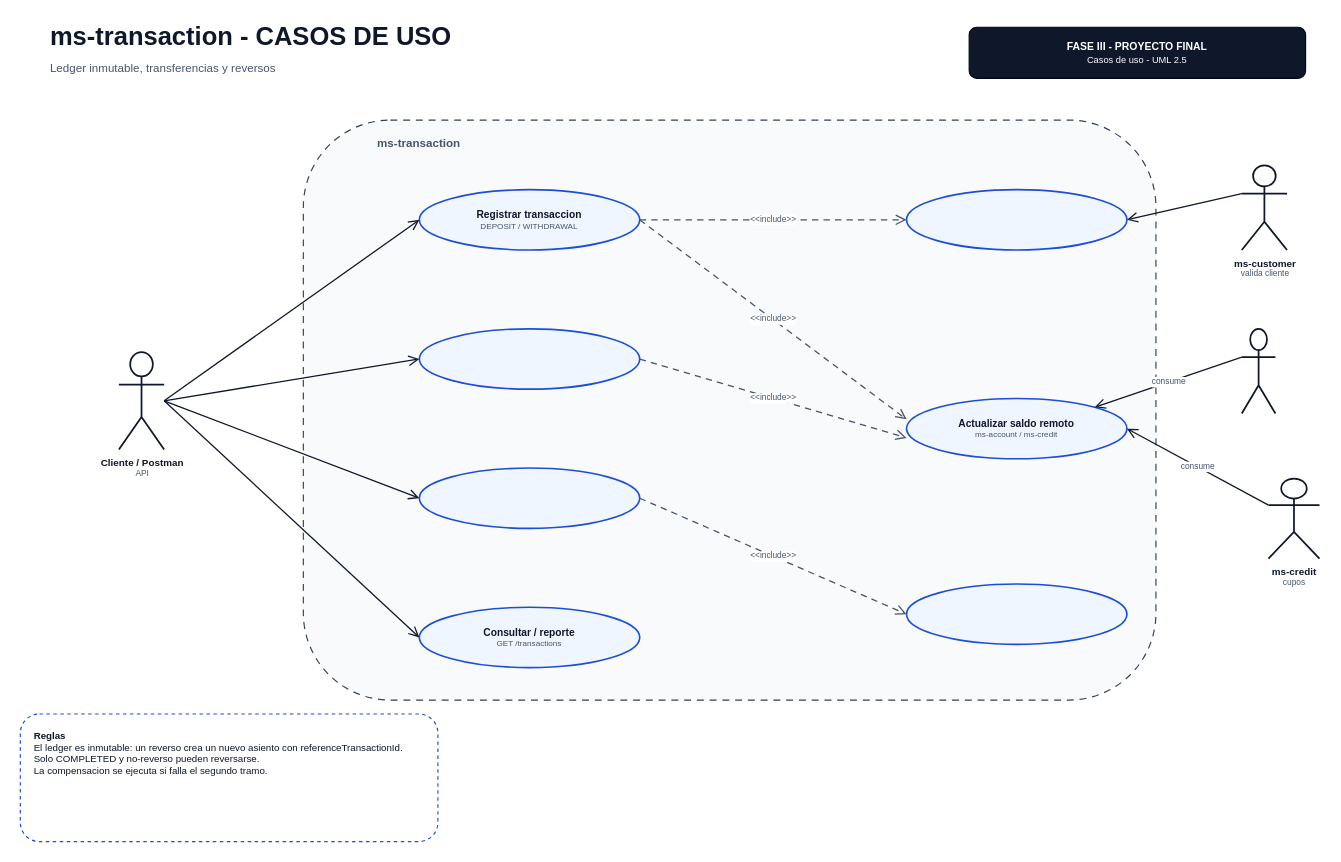
Some shapes in this 1341 by 862 pixel diagram are drawn without their labels. The box of each missing label's shape, as (x1, y1, x2, y2) in pixels:
Compensar inverso remoto: (905, 583, 1127, 645)
ms-account saldos: (1240, 327, 1276, 414)
Reversar POST /{id}/reverse: (418, 467, 640, 529)
Transferir POST /transfer: (418, 327, 640, 389)
Validar cliente ms-customer ACTIVE: (905, 188, 1127, 250)
